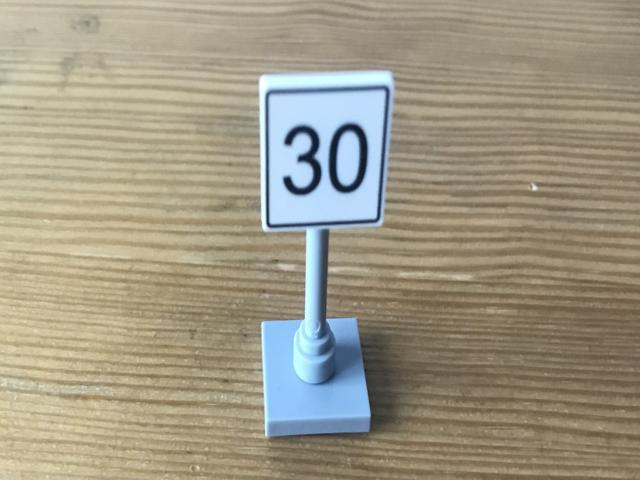tempolimit 30: (257, 70, 396, 232)
